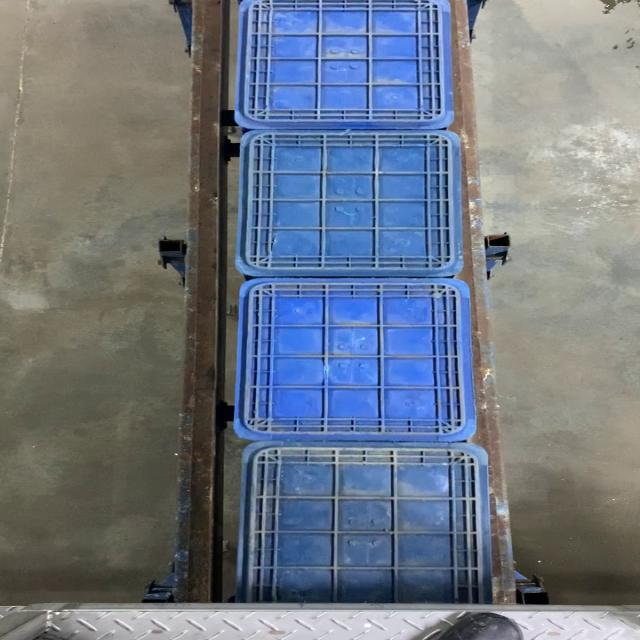Box: (232, 276, 476, 442), (239, 130, 464, 276)
